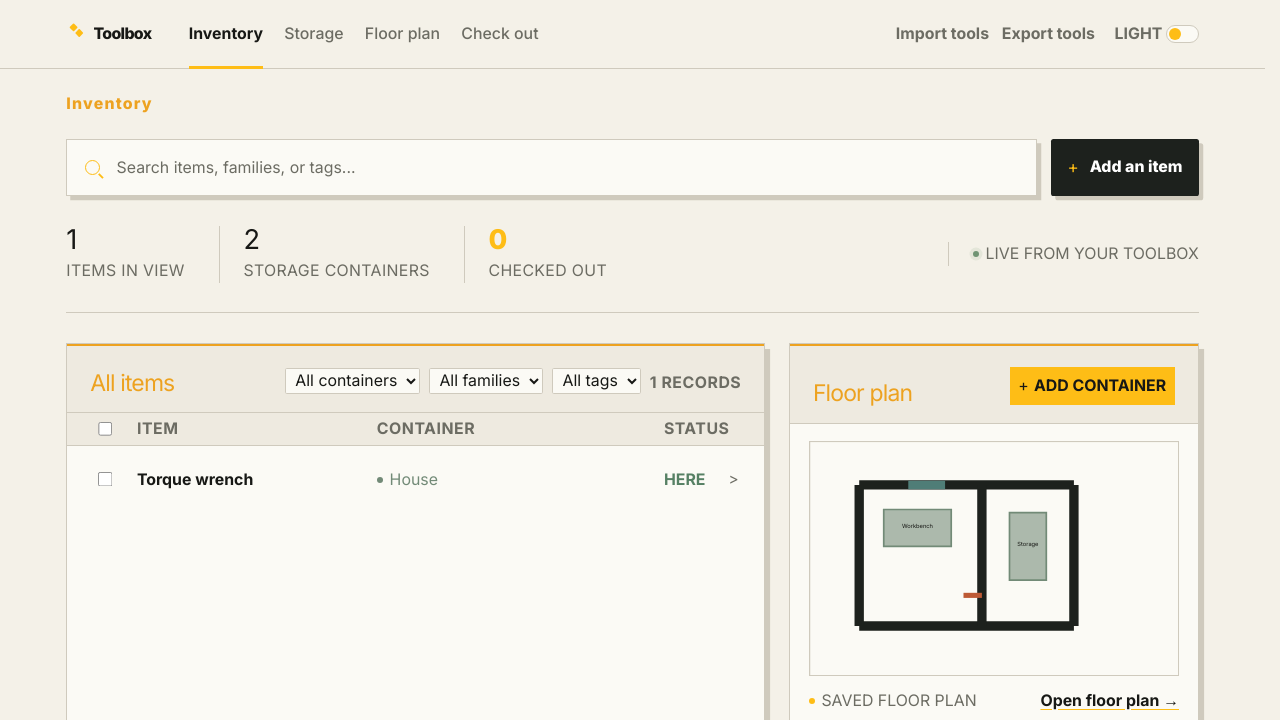
Test case: inventory navigation › requires confirmation before deleting selected items
Click the checkbox named "Select Torque wrench": (106, 480) [98,472,113,487]
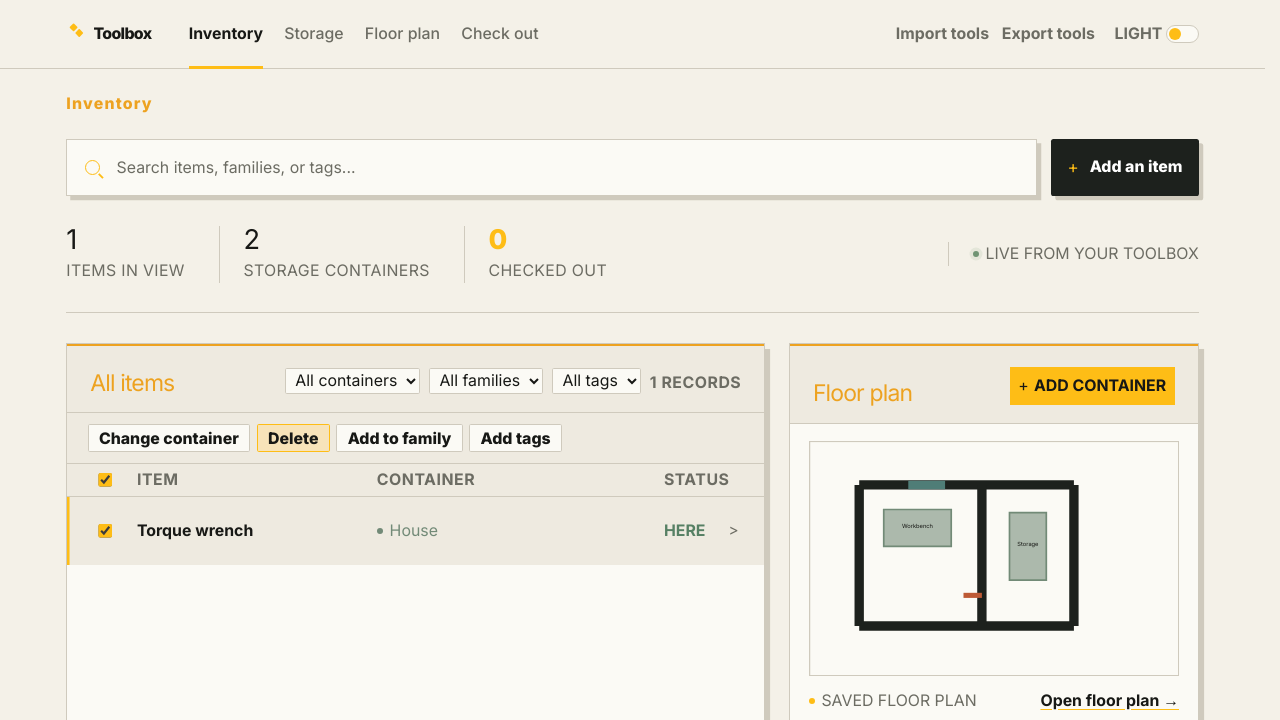
Click the button "Delete": (293, 438) [257,424,330,452]
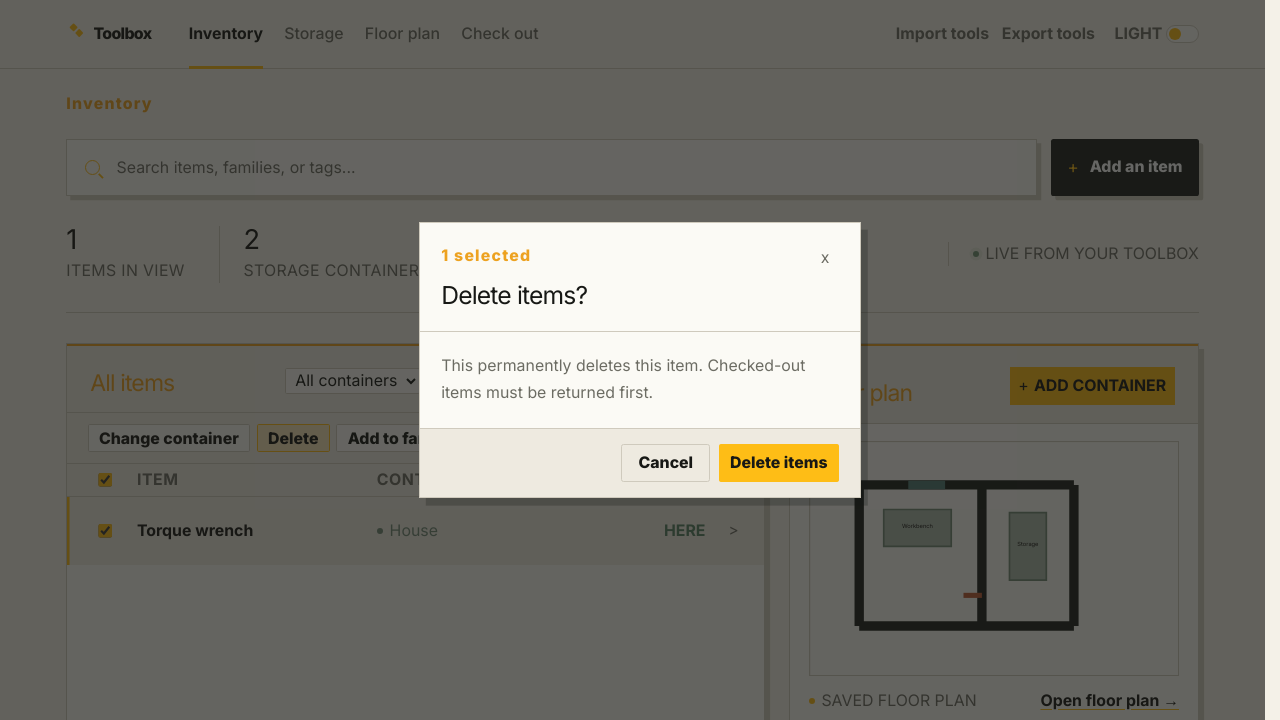
Click the button "Delete items": (779, 463) [719,444,839,482]
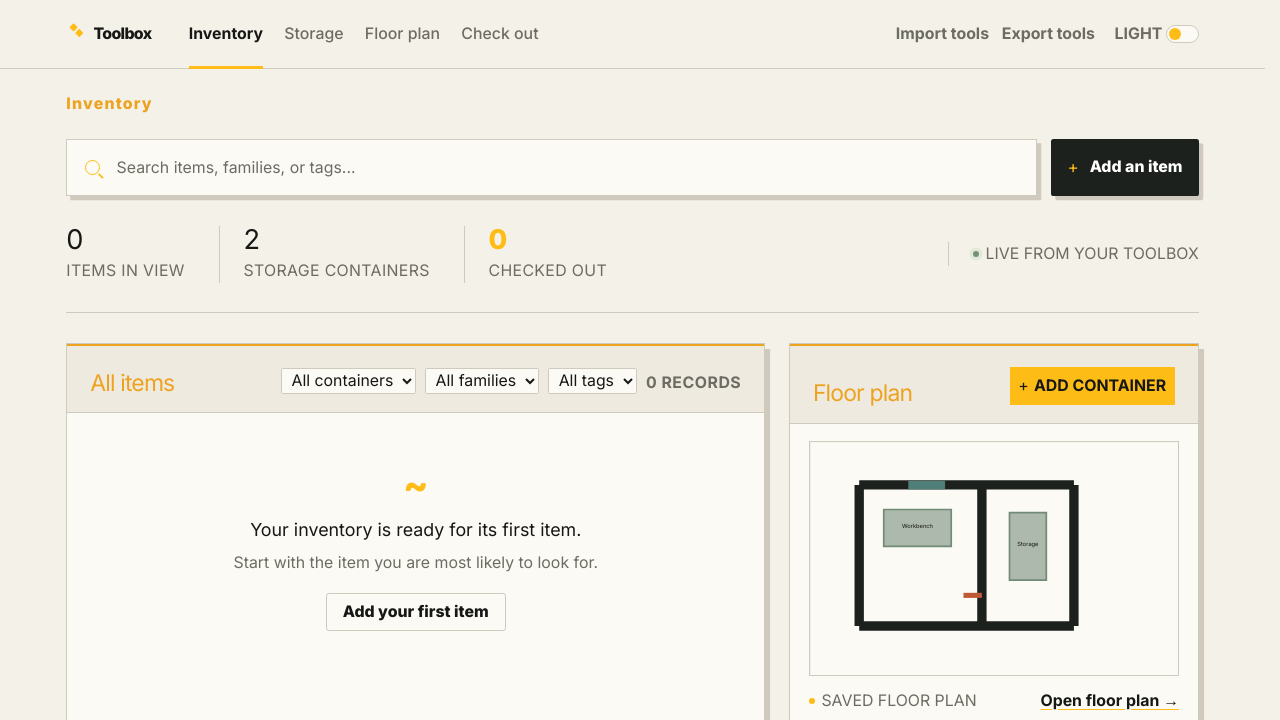
Expected: the heading "Your inventory is ready for its first item." is shown, [250,519,581,540]
